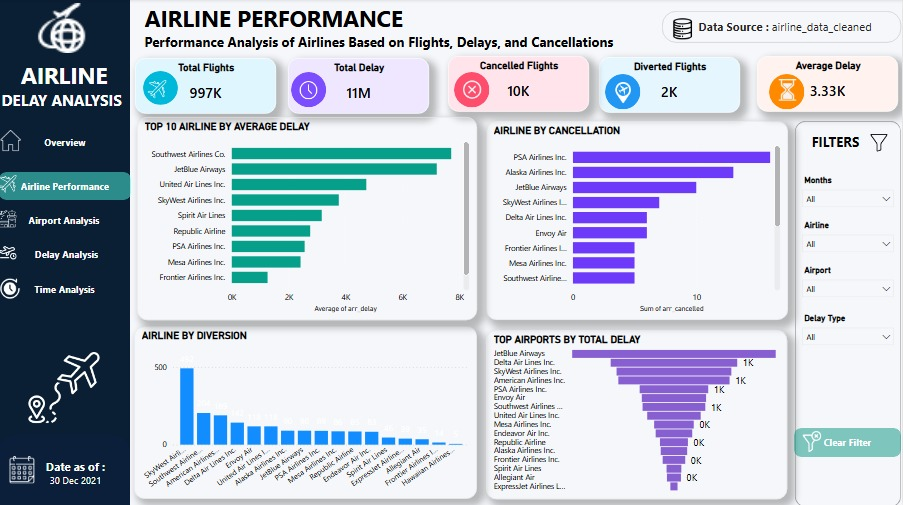

The dashboard page shown, as its layout file describes it:
{"tool":"powerbi","page":{"name":"Airline Performance","canvas":[1280,720],"ordinal":1},"visuals":[{"type":"shape","box":[0,0,187.2,720],"z":0},{"type":"actionButton","box":[1.4,182.8,187.1,41.1],"z":1000},{"type":"textbox","box":[202.7,0,683.1,83.6],"z":2000},{"type":"cardVisual","title":"Total Flights","fields":{"Data":["airline_data_cleaned.Total Flights"]},"box":[194,83.6,200,79.4],"z":3000},{"type":"actionButton","box":[1.4,245.2,187.1,39.7],"z":4000},{"type":"actionButton","box":[0,293.4,187.1,39.7],"z":5000},{"type":"actionButton","box":[2.8,341.6,188.5,39.7],"z":6000},{"type":"actionButton","box":[1.4,391.2,185.7,39.7],"z":7000},{"type":"cardVisual","title":"Diverted Flights","fields":{"Data":["airline_data_cleaned.Diverted Flights"]},"box":[851.8,82.2,199.8,79.4],"z":8000},{"type":"clusteredColumnChart","title":"AIRLINE BY DIVERSION","fields":{"Category":["airline_data_cleaned.carrier_name"],"Y":["Sum(airline_data_cleaned.arr_diverted)"]},"box":[192.8,463.5,486.1,245.2],"z":9000},{"type":"cardVisual","title":"Cancelled Flights","fields":{"Data":["airline_data_cleaned.Cancelled Flights"]},"box":[637.8,80.8,199.8,79.4],"z":11000},{"type":"cardVisual","title":"Total  Delay","fields":{"Data":["airline_data_cleaned.Total Delay"]},"box":[411.5,83.9,200.2,79.2],"z":12000},{"type":"slicer","fields":{"Values":["airline_data_cleaned.airport"]},"box":[1129.8,372.8,150.2,49.6],"z":13000},{"type":"clusteredBarChart","title":"AIRLINE BY CANCELLATION","fields":{"Category":["airline_data_cleaned.carrier_name"],"Y":["Sum(airline_data_cleaned.arr_cancelled)"]},"box":[691.7,172.9,428,282],"z":14000},{"type":"clusteredBarChart","title":"TOP 10 AIRLINE BY AVERAGE DELAY","fields":{"Category":["airline_data_cleaned.carrier_name"],"Y":["Avg(airline_data_cleaned.arr_delay)"]},"box":[197,167.2,481.9,287.7],"z":16000},{"type":"funnel","title":"TOP AIRPORTS BY TOTAL DELAY","fields":{"Category":["airline_data_cleaned.carrier_name"],"Y":["Sum(airline_data_cleaned.arr_flights)"]},"box":[691.7,469.1,426.6,239.5],"z":17000},{"type":"shape","box":[205.5,102,49.6,48.2],"z":18000},{"type":"cardVisual","title":"Average Delay","fields":{"Data":["airline_data_cleaned.Avg Delay"]},"box":[1076.4,81,200.2,79.2],"z":19000},{"type":"image","box":[1.4,249.4,25,25],"z":20000},{"type":"image","box":[2.8,185.7,30,30],"z":21000},{"type":"image","box":[1.4,298.7,25,25],"z":22000},{"type":"image","box":[1.4,347.4,25,25],"z":23000},{"type":"image","box":[1.4,395.4,31.2,29.8],"z":24000},{"type":"image","box":[205.5,114.8,39.7,25.5],"z":26000},{"type":"shape","box":[415.8,103.8,50,50],"z":27000},{"type":"image","box":[419.5,116.2,41.1,25.5],"z":28000},{"type":"shape","box":[646,104,50.4,50.4],"z":29000},{"type":"image","box":[652,113.4,39.7,29.8],"z":30000},{"type":"shape","box":[860.6,106.8,50.4,50.4],"z":31000},{"type":"image","box":[866,117.6,39.7,29.8],"z":32000},{"type":"shape","box":[1093.3,106.8,50.4,50.4],"z":33000},{"type":"image","box":[1098.4,113.4,41.1,31.2],"z":34000},{"type":"image","box":[0,500.3,187.1,100.6],"z":35000},{"type":"shape","box":[0,616.3,187.2,103.7],"z":36000},{"type":"image","box":[11.5,648,44.6,38.9],"z":37000},{"type":"actionButton","box":[1133.9,185.7,106.3,28.3],"z":38000},{"type":"image","box":[1233.1,191.3,30,25],"z":39000},{"type":"shape","box":[1129.6,172.9,150.2,547.1],"z":40000},{"type":"slicer","fields":{"Values":["airline_data_cleaned.month"]},"box":[1129.8,245.2,150.2,49.6],"z":41000},{"type":"slicer","fields":{"Values":["airline_data_cleaned.arr_delay"]},"box":[1129.8,440.8,150.2,49.6],"z":42000},{"type":"slicer","fields":{"Values":["airline_data_cleaned.arr_flights"]},"box":[1129.8,309,150.2,49.6],"z":43000},{"type":"image","box":[49.6,5.7,80.8,70.9],"z":44000},{"type":"textbox","box":[0,80.8,187.1,92.1],"z":45000},{"type":"actionButton","box":[56.7,647.7,106.3,28.3],"z":46000},{"type":"actionButton","box":[56.7,667.6,106.3,28.3],"z":47000},{"type":"textbox","box":[941.1,17,338.7,45],"z":48000},{"type":"image","box":[955.3,21.3,30,41.1],"z":49000},{"type":"actionButton","box":[1128.2,608,151.7,41.1],"z":50000},{"type":"image","box":[1129.6,612.3,48.2,29.8],"z":51000}]}

Visuals, with their boxes in screenshot pixels (x1, y1, x2, y2), scaled from the page's 1280x720 canvas onto the 903x505 screenshot:
shape: Rect(0, 0, 132, 504)
actionButton: Rect(1, 128, 133, 157)
textbox: Rect(143, 0, 625, 59)
"Total Flights" cardVisual: Rect(137, 59, 278, 114)
actionButton: Rect(1, 172, 133, 200)
actionButton: Rect(0, 206, 132, 234)
actionButton: Rect(2, 240, 135, 267)
actionButton: Rect(1, 274, 132, 302)
"Diverted Flights" cardVisual: Rect(601, 58, 742, 113)
"AIRLINE BY DIVERSION" clusteredColumnChart: Rect(136, 325, 479, 497)
"Cancelled Flights" cardVisual: Rect(450, 57, 591, 112)
"Total  Delay" cardVisual: Rect(290, 59, 432, 114)
slicer - airline_data_cleaned.airport: Rect(797, 261, 902, 296)
"AIRLINE BY CANCELLATION" clusteredBarChart: Rect(488, 121, 790, 319)
"TOP 10 AIRLINE BY AVERAGE DELAY" clusteredBarChart: Rect(139, 117, 479, 319)
"TOP AIRPORTS BY TOTAL DELAY" funnel: Rect(488, 329, 789, 497)
shape: Rect(145, 72, 180, 105)
"Average Delay" cardVisual: Rect(759, 57, 901, 112)
image: Rect(1, 175, 19, 192)
image: Rect(2, 130, 23, 151)
image: Rect(1, 210, 19, 227)
image: Rect(1, 244, 19, 261)
image: Rect(1, 277, 23, 298)
image: Rect(145, 81, 173, 98)
shape: Rect(293, 73, 329, 108)
image: Rect(296, 82, 325, 99)
shape: Rect(456, 73, 491, 108)
image: Rect(460, 80, 488, 100)
shape: Rect(607, 75, 643, 110)
image: Rect(611, 82, 639, 103)
shape: Rect(771, 75, 807, 110)
image: Rect(775, 80, 804, 101)
image: Rect(0, 351, 132, 421)
shape: Rect(0, 432, 132, 504)
image: Rect(8, 454, 40, 482)
actionButton: Rect(800, 130, 875, 150)
image: Rect(870, 134, 891, 152)
shape: Rect(797, 121, 902, 504)
slicer - airline_data_cleaned.month: Rect(797, 172, 902, 207)
slicer - airline_data_cleaned.arr_delay: Rect(797, 309, 902, 344)
slicer - airline_data_cleaned.arr_flights: Rect(797, 217, 902, 252)
image: Rect(35, 4, 92, 54)
textbox: Rect(0, 57, 132, 121)
actionButton: Rect(40, 454, 115, 474)
actionButton: Rect(40, 468, 115, 488)
textbox: Rect(664, 12, 902, 43)
image: Rect(674, 15, 695, 44)
actionButton: Rect(796, 426, 902, 455)
image: Rect(797, 429, 831, 450)
